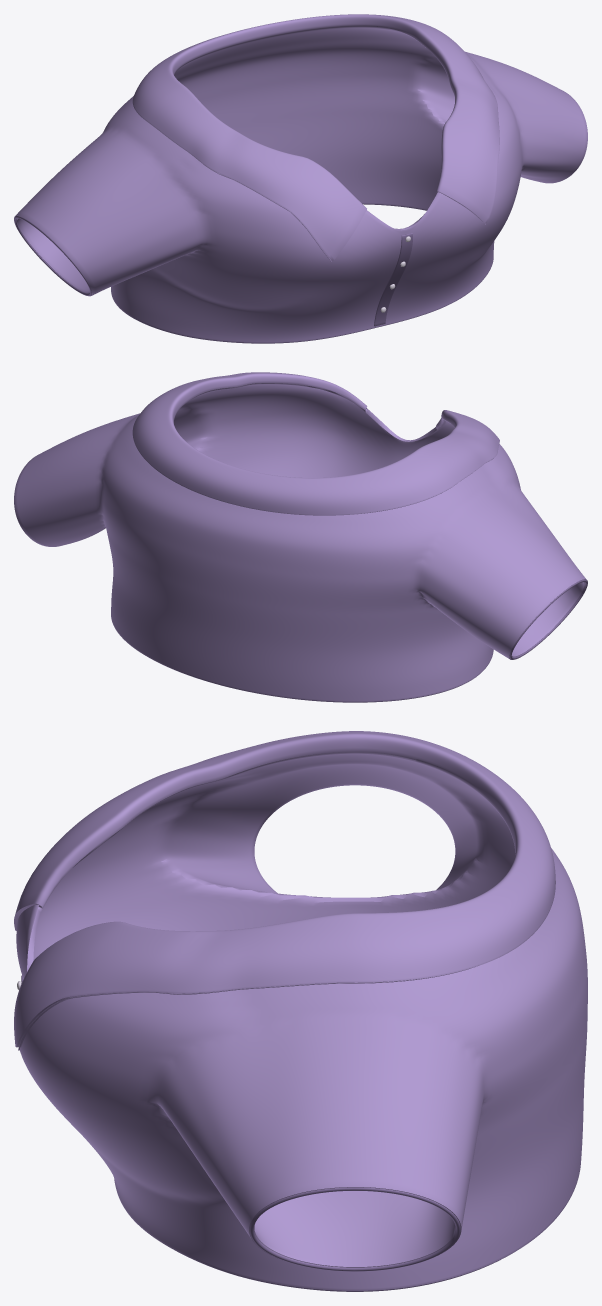
File: Feminine-buttonup.glb
The picture shows the model from 3 angles, top to bottom: view 1: azimuth 30°, elevation 25°; view 2: azimuth 150°, elevation 25°; view 3: azimuth 270°, elevation 25°; orthographic projection. The views are drawn at different scales.
Parts seen in each view (by area): view 1: Clothing / tshirt, Button-up / lower closed placket, Sleeve / soft cuff -1 export; view 2: Clothing / tshirt, Sleeve / soft cuff -1 export; view 3: Clothing / tshirt, Sleeve / soft cuff 1 export.
Part boxes in pixels (x1,y1,x2,y2): Clothing / tshirt: [14, 14, 587, 343]; Button-up / lower closed placket: [374, 233, 412, 326]; Sleeve / soft cuff -1 export: [14, 216, 91, 296]; Clothing / tshirt: [14, 372, 587, 702]; Sleeve / soft cuff -1 export: [509, 579, 587, 659]; Clothing / tshirt: [14, 731, 587, 1290]; Sleeve / soft cuff 1 export: [249, 1187, 460, 1271].
Bounding box in the file's own units: 0.9343 × 0.3575 × 0.5552.
